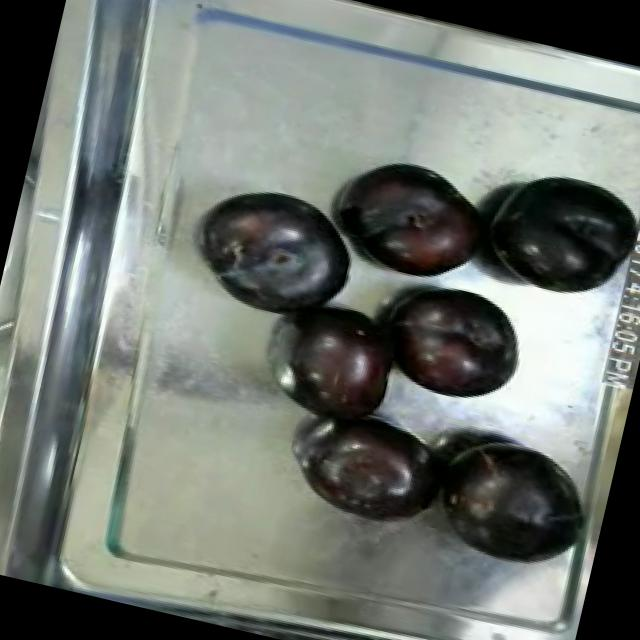Fruit: (186, 168, 370, 330), (323, 144, 500, 298), (428, 423, 602, 578), (472, 154, 640, 312), (368, 266, 538, 420), (266, 288, 418, 442), (292, 400, 442, 536)
